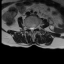CCS_normal: (31, 25, 33, 35)
LFS_normal: (35, 24, 37, 31)
LLS_normal: (33, 25, 35, 32)
RFS_normal: (27, 25, 29, 31)
RLS_normal: (29, 25, 31, 32)
